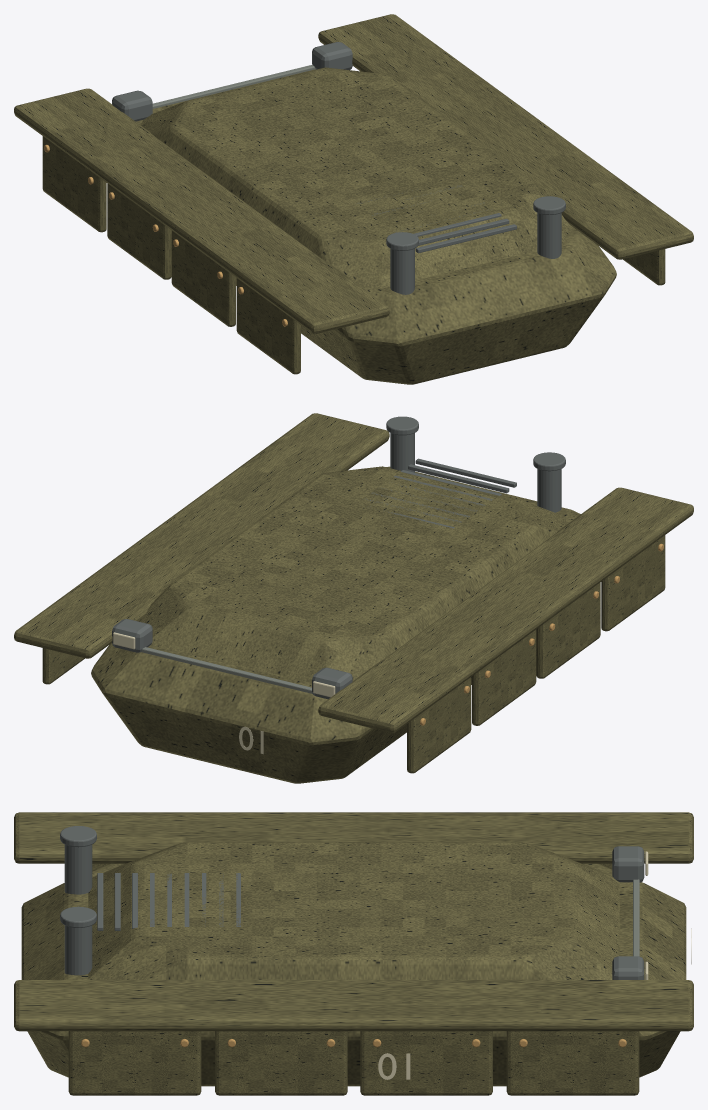
The model's file is STK-H01.fbx.
The picture shows the model from 3 angles, top to bottom: view 1: azimuth 30°, elevation 25°; view 2: azimuth 150°, elevation 25°; view 3: azimuth 270°, elevation 25°; orthographic projection. The views are drawn at different scales.
Parts seen in each view (by area): view 1: STK-H01_Armor, STK-H01_Steel, STK-H01_Edge; view 2: STK-H01_Armor, STK-H01_Steel, STK-H01_Edge, STK-H01_Marking; view 3: STK-H01_Armor, STK-H01_Steel, STK-H01_Marking, STK-H01_Edge, STK-H01_Brass.
Boxes of the visible parts, left/top/right/bottom form: STK-H01_Armor: left=14, top=14, right=693, bottom=384; STK-H01_Steel: left=112, top=42, right=565, bottom=294; STK-H01_Edge: left=152, top=64, right=315, bottom=108; STK-H01_Armor: left=14, top=413, right=693, bottom=783; STK-H01_Steel: left=112, top=416, right=565, bottom=699; STK-H01_Edge: left=141, top=647, right=312, bottom=693; STK-H01_Marking: left=113, top=632, right=335, bottom=754; STK-H01_Armor: left=14, top=812, right=693, bottom=1095; STK-H01_Steel: left=60, top=826, right=644, bottom=979; STK-H01_Marking: left=378, top=851, right=691, bottom=1079; STK-H01_Edge: left=633, top=879, right=639, bottom=956; STK-H01_Brass: left=81, top=1039, right=626, bottom=1047.
Size of the model in its own units: 432 by 148 by 590.
